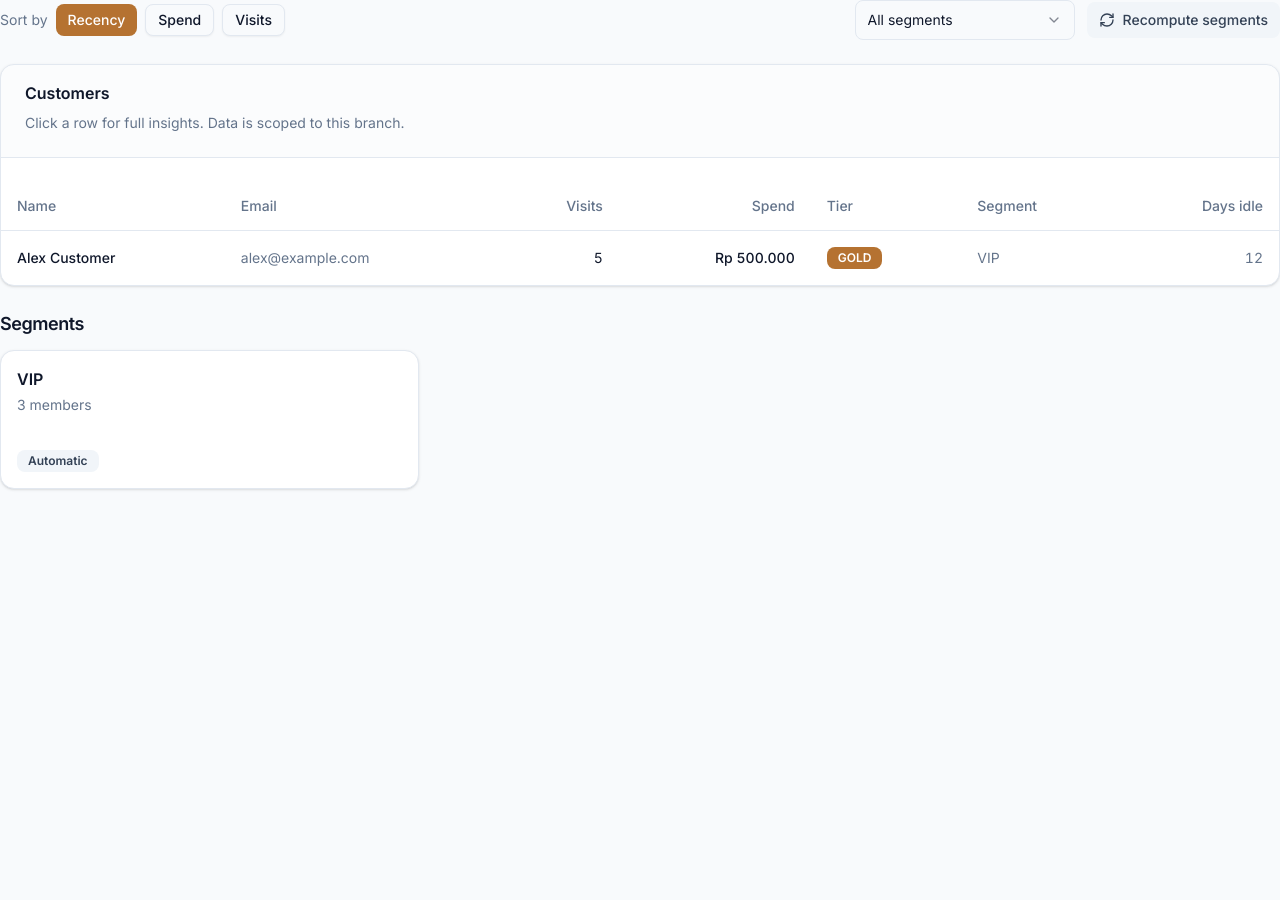
Test: crm feature › opens detail dialog with favorite services
Step 1. Click the text "Alex Customer" → (113, 257), box [1,230,225,284]
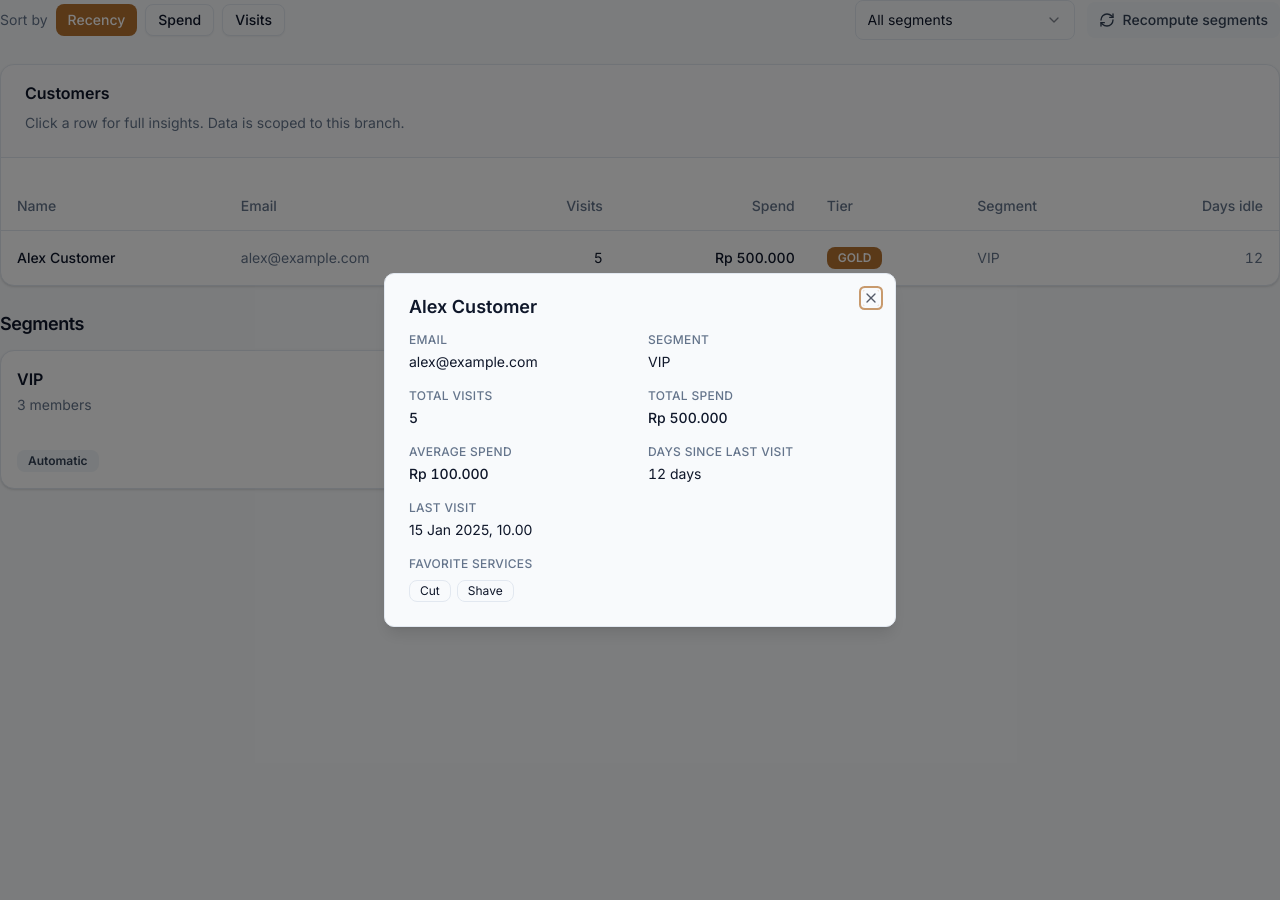
Expected: the text "Favorite services" is shown, [409,556,532,571]
Expected: the text "Cut" is shown, [409,580,451,602]
Expected: the text "Shave" is shown, [457,580,514,602]
